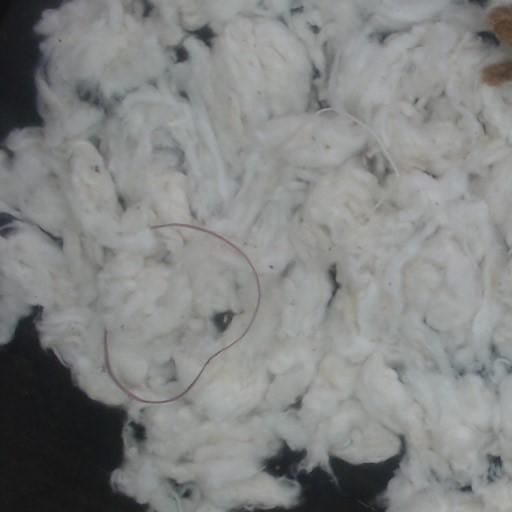conveyor belt: (0, 316, 143, 511), (291, 455, 399, 511), (266, 447, 303, 477)
cotton: (0, 0, 511, 511)
jute: (487, 3, 511, 48), (482, 58, 511, 85)
thread: (104, 223, 260, 405)
